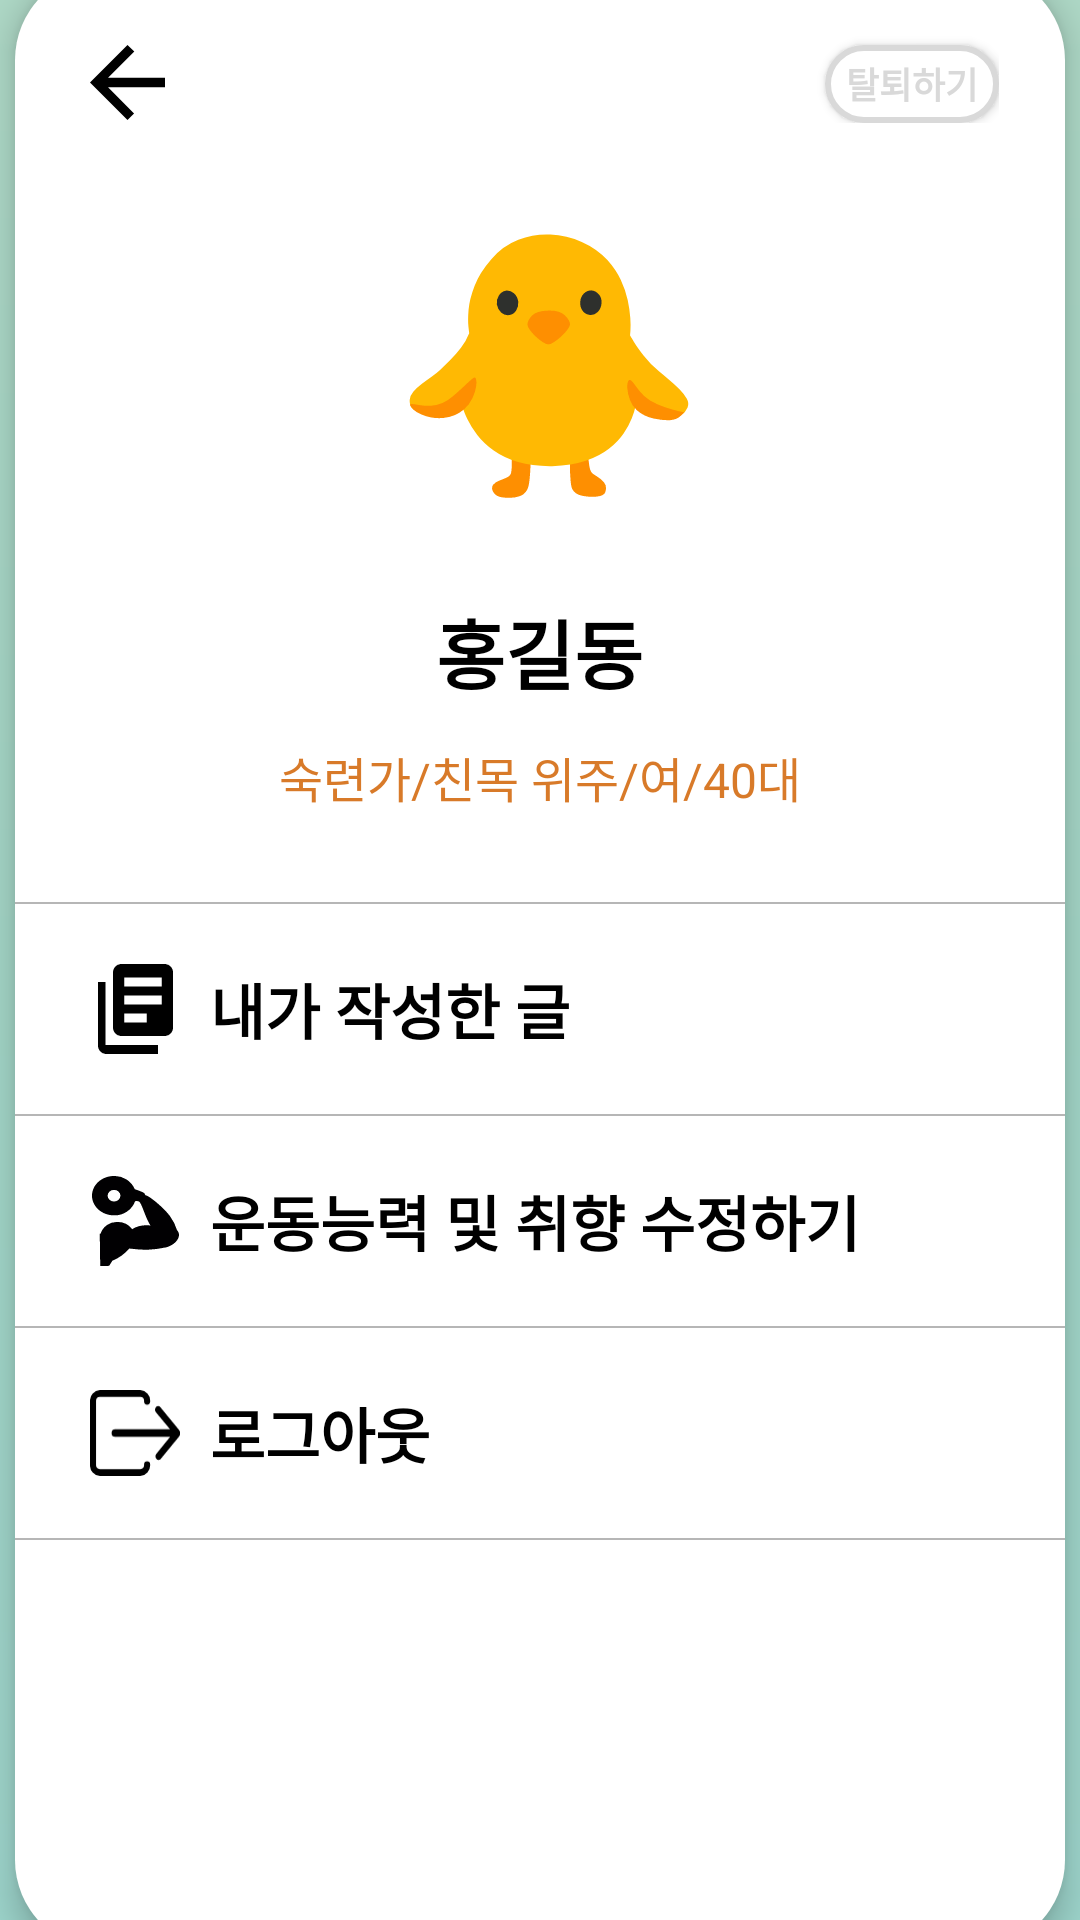

Icon click points for this 1080px x 1920px phone screenshot, format (x=x, y=y):
arrow back: (x=127, y=82)
writing history: (x=135, y=1009)
